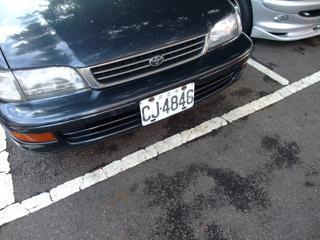plate: (138, 88, 198, 122)
